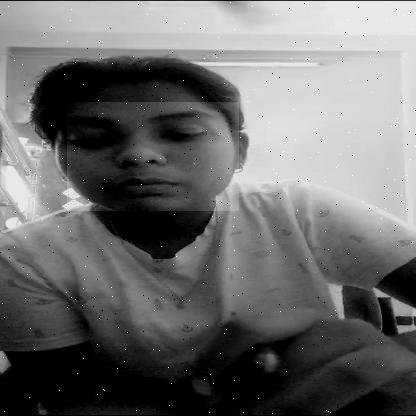Normal: (67, 102, 239, 211)
